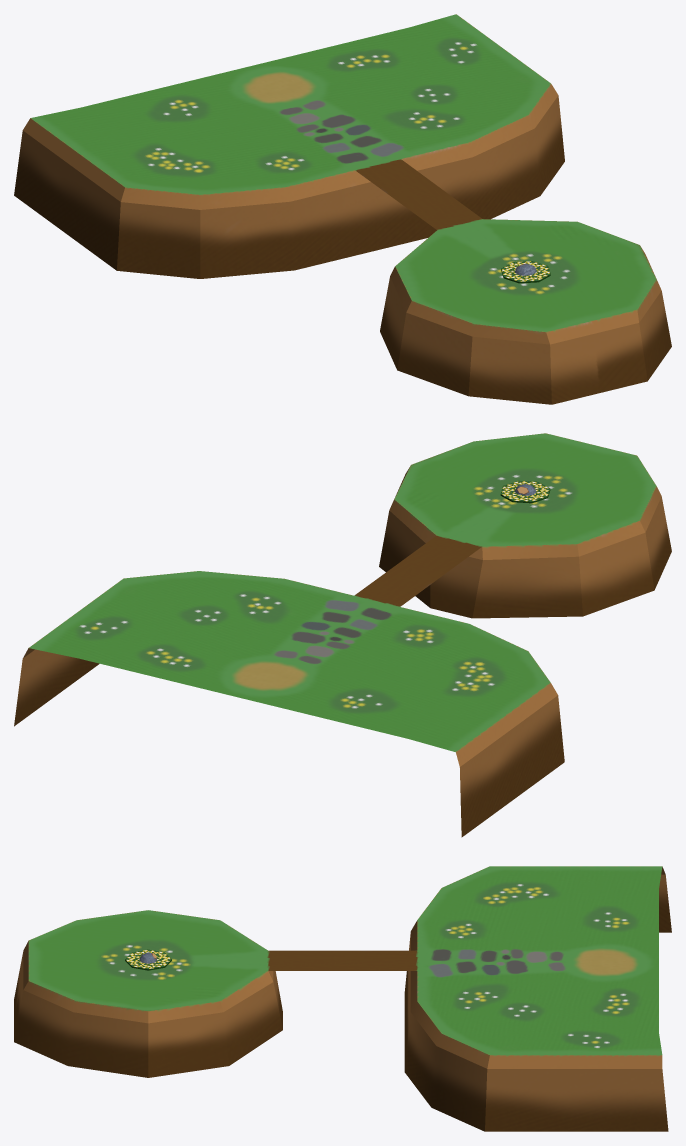
The model's file is worldMapWithDecorations.glb.
3 views of the same model, one above another, from view 1: azimuth 30°, elevation 25°; view 2: azimuth 150°, elevation 25°; view 3: azimuth 270°, elevation 25° (orthographic). The views are drawn at different scales.
Visible parts, largest first — view 1: platform_geo, flowerBed_geo; view 2: platform_geo, flowerBed_geo; view 3: platform_geo, flowerBed_geo.
Boxes of the visible parts, x1,y1,x2,y2 form: platform_geo: (14, 14, 671, 404); flowerBed_geo: (501, 261, 550, 283); platform_geo: (14, 433, 671, 837); flowerBed_geo: (500, 481, 550, 503); platform_geo: (14, 866, 671, 1131); flowerBed_geo: (125, 949, 171, 970).
Size of the model in its own units: 7.4 by 1.35 by 10.35.
Materials: 3 (3 with a texture image).
